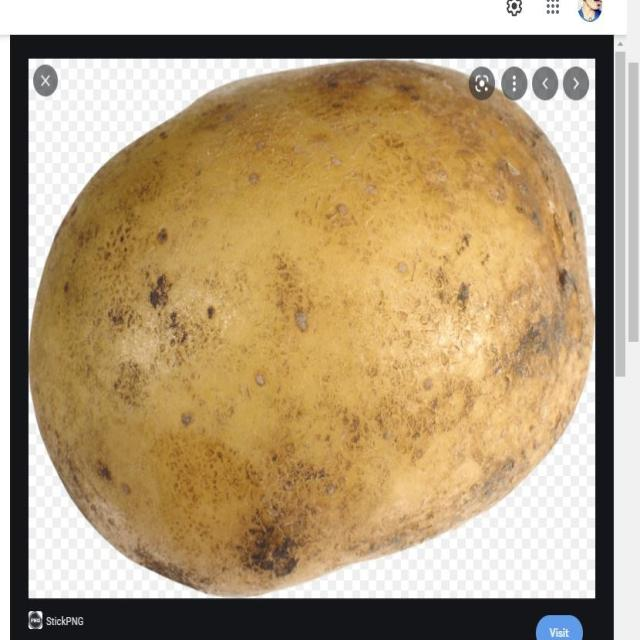potato: (28, 62, 593, 593)
